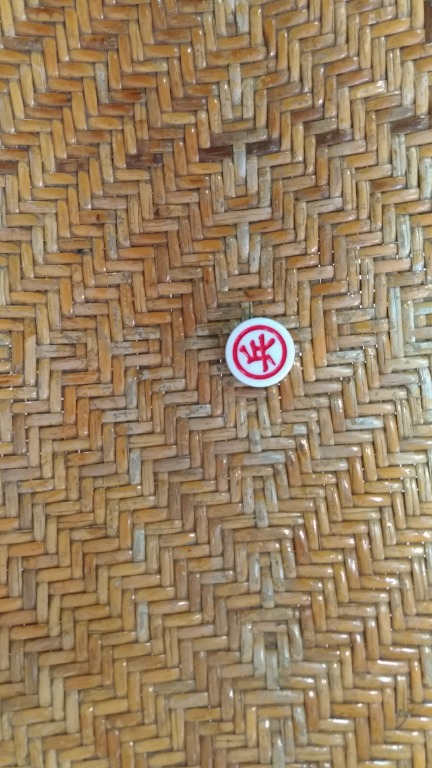r-pawn: (214, 319, 302, 392)
